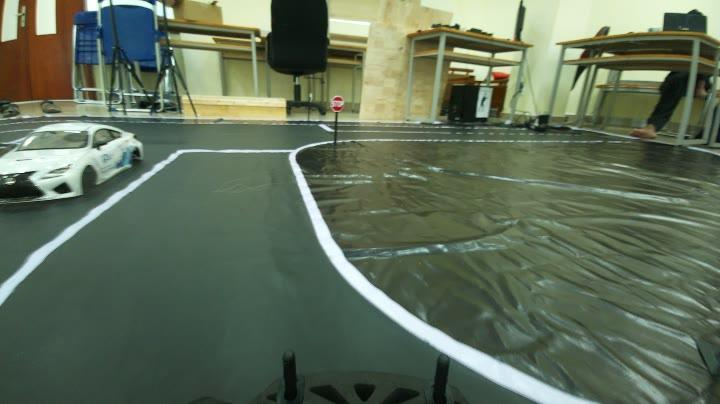car: (2, 111, 143, 218)
stop: (324, 90, 344, 116)
